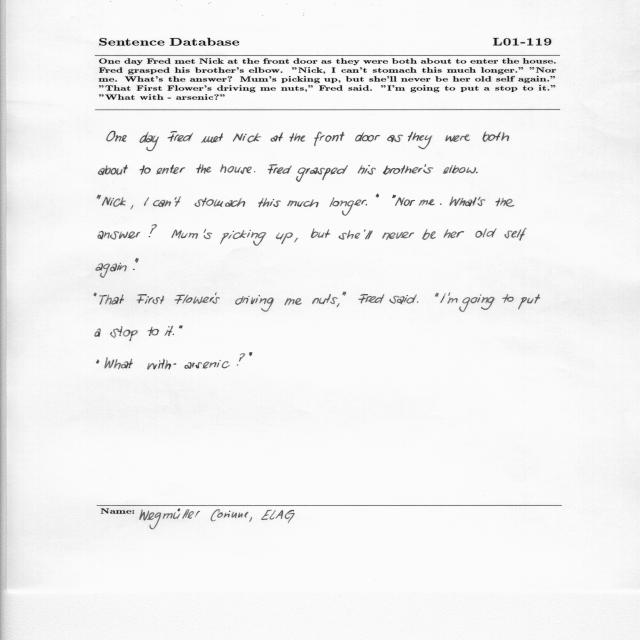word: (296, 165, 348, 182), (220, 230, 266, 246), (330, 197, 367, 216), (459, 295, 495, 312), (174, 293, 220, 305), (383, 164, 433, 175), (96, 263, 127, 278), (195, 198, 246, 207), (315, 132, 345, 146), (110, 326, 138, 341), (184, 360, 230, 369), (408, 132, 432, 149), (450, 196, 486, 207), (251, 295, 274, 312), (139, 132, 159, 151), (98, 231, 140, 240), (104, 358, 133, 370), (518, 294, 540, 309), (220, 164, 252, 174), (153, 196, 181, 207), (98, 165, 128, 175), (443, 165, 476, 174), (157, 165, 186, 175), (483, 131, 509, 142), (505, 228, 527, 241), (233, 133, 261, 143), (389, 294, 417, 304), (168, 131, 193, 142), (99, 294, 124, 305), (137, 294, 164, 304), (147, 359, 171, 370), (312, 294, 338, 304), (287, 199, 319, 207), (383, 232, 415, 240), (171, 230, 198, 239), (268, 164, 292, 174), (102, 197, 126, 207), (358, 294, 384, 303), (355, 133, 380, 142), (107, 131, 127, 142), (201, 133, 223, 143), (478, 197, 500, 207), (475, 228, 497, 238), (339, 230, 360, 240), (258, 198, 281, 207), (276, 232, 293, 244), (445, 134, 470, 142), (311, 229, 330, 239), (358, 165, 376, 175), (395, 197, 415, 206), (444, 229, 464, 238), (422, 229, 436, 240), (196, 164, 211, 174), (290, 133, 305, 142), (235, 296, 250, 305), (447, 292, 458, 304), (270, 132, 283, 142), (500, 198, 514, 207), (284, 298, 302, 305), (139, 165, 151, 175), (148, 225, 157, 238), (387, 135, 403, 142), (419, 199, 435, 206), (502, 294, 514, 303), (147, 327, 159, 336), (237, 353, 245, 366), (204, 229, 213, 239), (364, 230, 373, 240), (164, 326, 173, 336), (440, 293, 446, 303), (95, 328, 101, 337), (144, 197, 149, 206), (97, 195, 101, 200), (294, 238, 298, 243), (135, 258, 139, 263), (343, 292, 347, 296), (435, 293, 439, 297), (131, 205, 134, 210), (376, 194, 379, 198), (392, 195, 396, 198), (94, 293, 97, 297), (337, 303, 340, 307), (249, 352, 252, 356), (179, 326, 182, 329), (97, 360, 99, 364), (174, 363, 177, 365), (440, 203, 442, 205), (476, 172, 478, 173), (366, 204, 367, 206), (133, 269, 135, 270), (417, 301, 418, 303), (172, 334, 174, 335), (254, 171, 255, 172)
